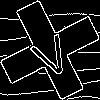V: (25, 25, 76, 81)
